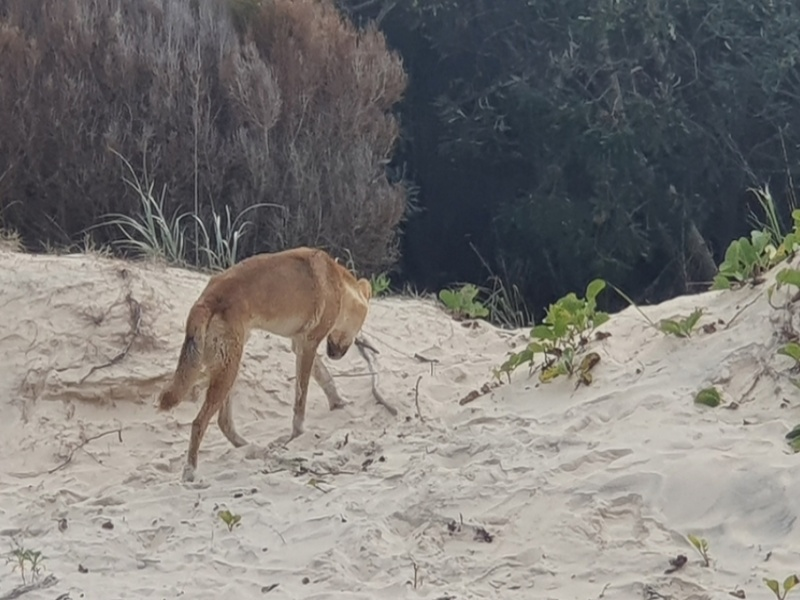dog: (158, 243, 370, 484)
